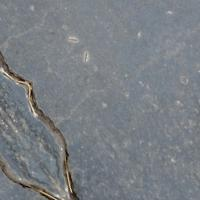crack: (3, 53, 96, 199)
